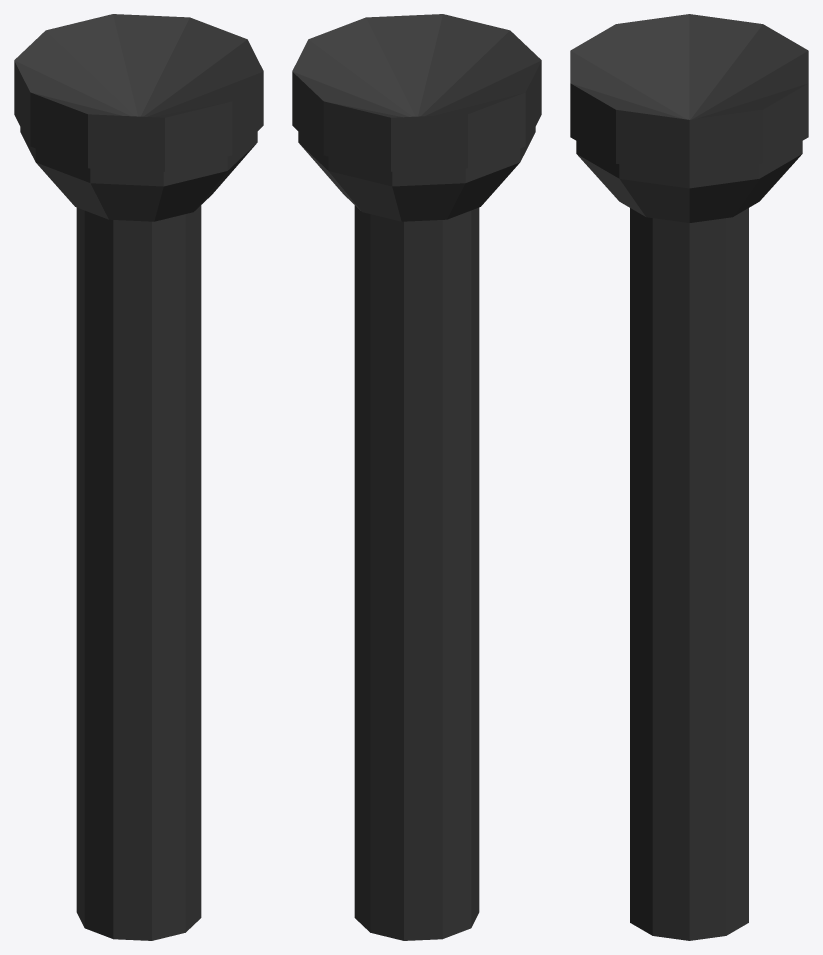
File: Torch.fbx
The picture shows the model from 3 angles, left to right: view 1: azimuth 30°, elevation 25°; view 2: azimuth 150°, elevation 25°; view 3: azimuth 270°, elevation 25°; orthographic projection.
Visible parts, largest first — view 1: cylinder; view 2: cylinder; view 3: cylinder.
Part boxes in pixels (bbox=[...]): cylinder: bbox=[14, 14, 263, 940]; cylinder: bbox=[292, 14, 541, 940]; cylinder: bbox=[570, 14, 808, 940].
Size of the model in its own units: 26.29 by 98.12 by 25.
1 material, 1 textured.
